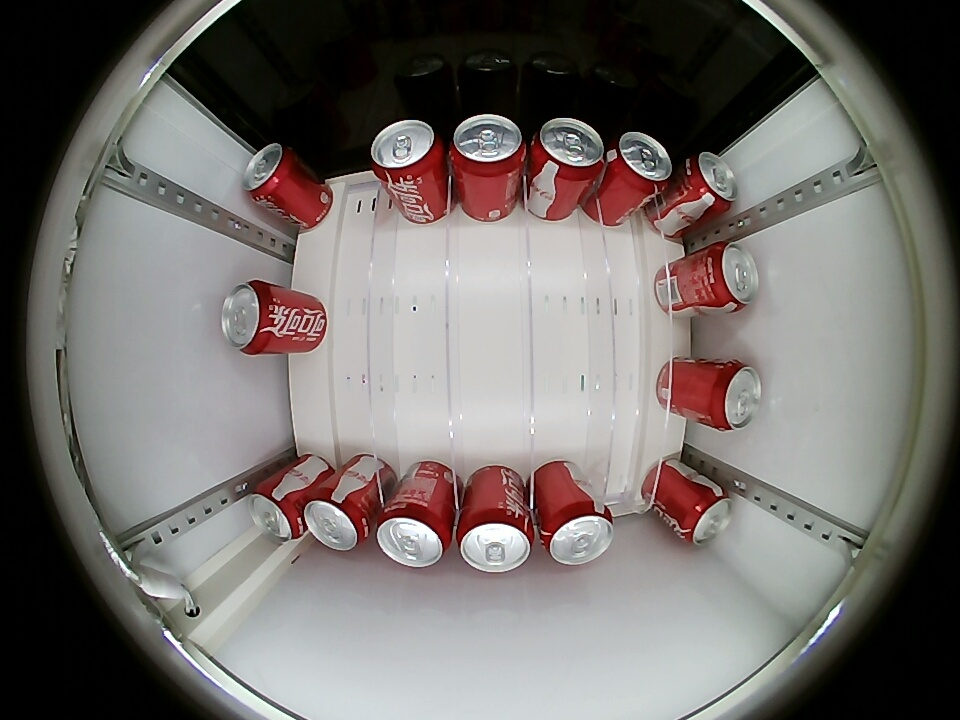kele: (376, 502, 452, 569), (457, 508, 534, 573), (370, 120, 446, 183), (539, 503, 615, 566), (450, 114, 526, 177), (530, 118, 605, 181), (220, 280, 278, 354), (707, 359, 763, 432), (704, 241, 760, 313), (607, 131, 673, 191), (304, 492, 371, 551), (683, 150, 739, 214), (248, 481, 305, 542), (677, 484, 733, 546), (242, 143, 297, 205)
